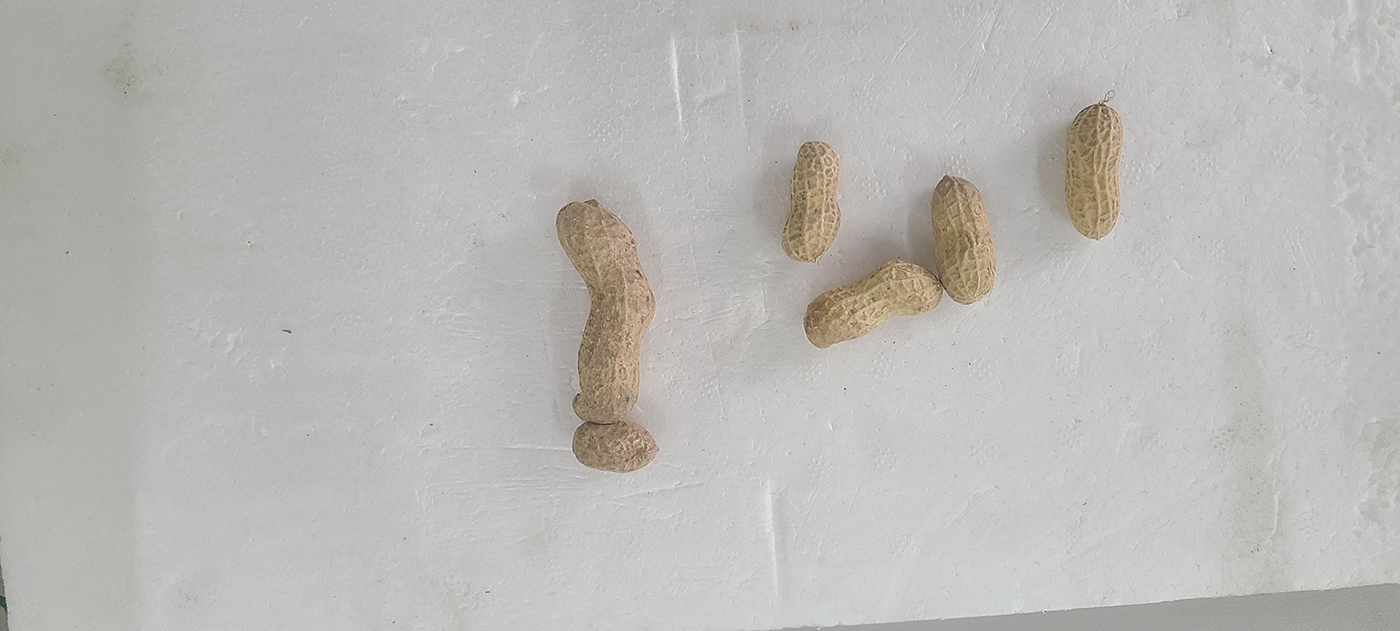h: (554, 202, 656, 423), (804, 258, 941, 347), (929, 174, 997, 305), (1064, 101, 1123, 239), (780, 141, 843, 262)
l: (572, 422, 658, 473)
